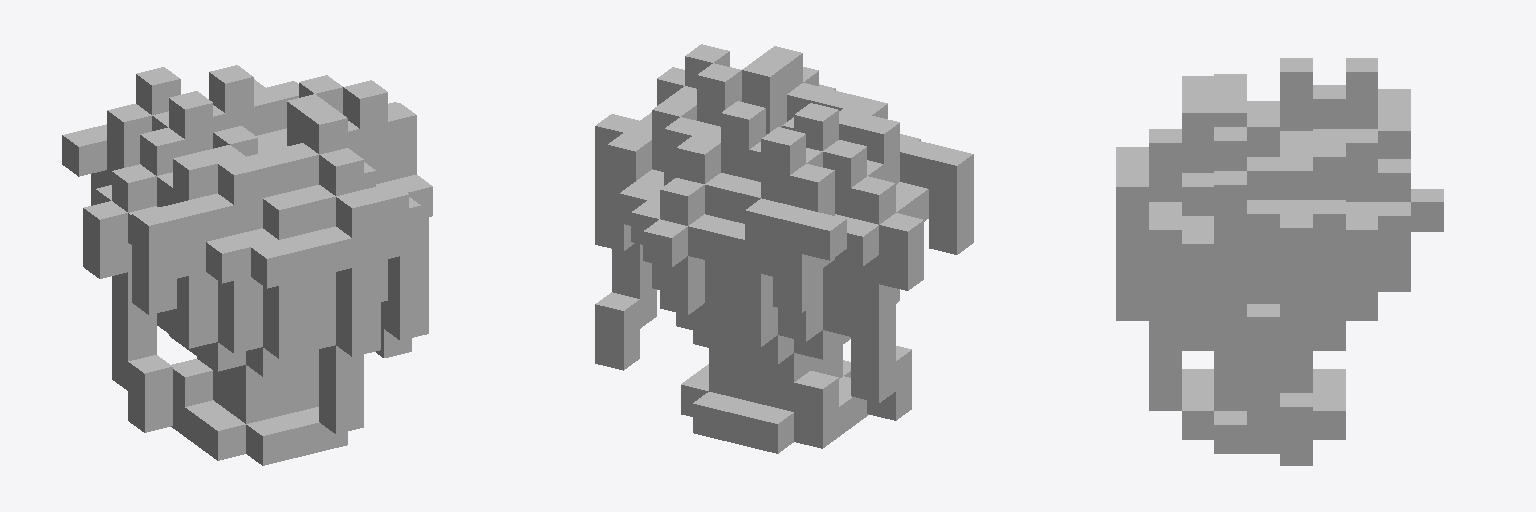
The model's file is Flower_Pot01.obj.
3 views of the same model, side by side, from view 1: azimuth 30°, elevation 25°; view 2: azimuth 150°, elevation 25°; view 3: azimuth 270°, elevation 25° (orthographic).
Parts seen in each view (by area): view 1: Flower_Pot01; view 2: Flower_Pot01; view 3: Flower_Pot01.
Part boxes in pixels (x1,y1,x2,y2): Flower_Pot01: (62, 65, 432, 465); Flower_Pot01: (595, 44, 973, 453); Flower_Pot01: (1116, 58, 1443, 465).
Size of the model in its own units: 1.1 by 1.1 by 1.